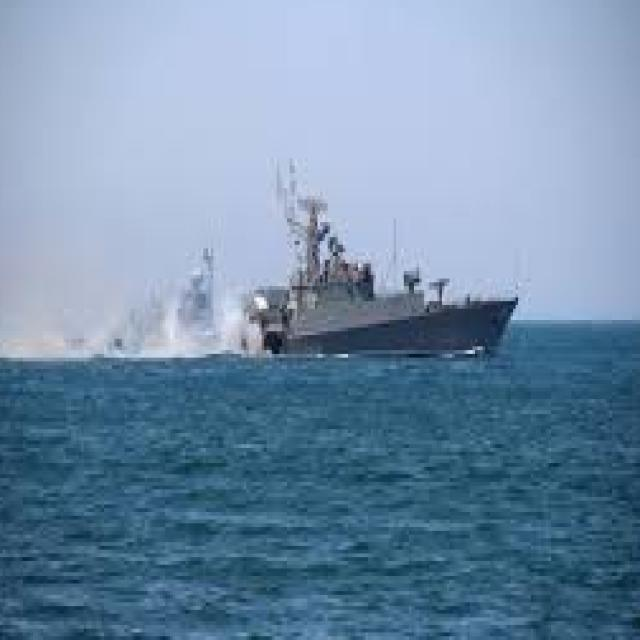navalvessels: (142, 167, 532, 370)
